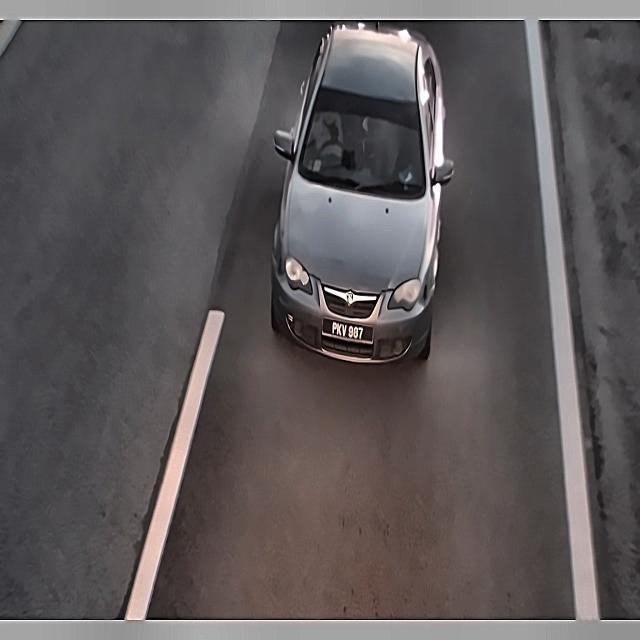car: (321, 309, 373, 354)
